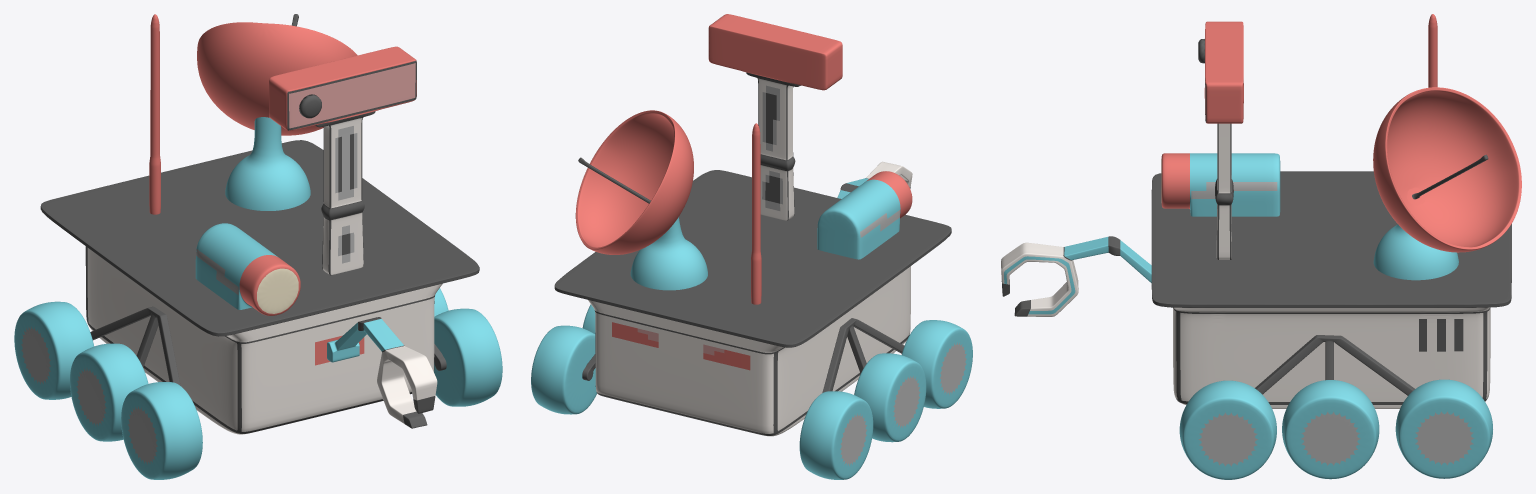
Rendered from Rover_Medium_Final.fbx.
The picture shows the model from 3 angles, left to right: view 1: azimuth 30°, elevation 25°; view 2: azimuth 150°, elevation 25°; view 3: azimuth 270°, elevation 25°; orthographic projection. The views are drawn at different scales.
Parts seen in each view (by area): view 1: Body_fracturepart2, Body_fracturepart3, Satellite, head_top, Body_fracturepart1, Light, FR_Wheel, BR_Wheel, FR_Wheel_001, Arm, MR_Wheel, head_bottom (+1 smaller); view 2: Body_fracturepart3, Body_fracturepart1, Satellite, head_top, Body_fracturepart2, Light, BR_Wheel, BR_Wheel_001, MR_Wheel, FR_Wheel, head_bottom, WheelForkRight (+1 smaller); view 3: Body_fracturepart1, Satellite, Body_fracturepart2, FR_Wheel_001, BR_Wheel_001, MR_Wheel_001, Body_fracturepart3, Light, head_top, Arm, WheelForkRight_001, head_bottom.
Part boxes in pixels (x1=…): Body_fracturepart2: x1=235, y1=228, x2=479, y2=434; Body_fracturepart3: x1=40, y1=14, x2=239, y2=433; Satellite: x1=197, y1=14, x2=357, y2=210; head_top: x1=269, y1=46, x2=416, y2=169; Body_fracturepart1: x1=131, y1=140, x2=430, y2=236; Light: x1=195, y1=223, x2=300, y2=315; FR_Wheel: x1=121, y1=382, x2=202, y2=479; BR_Wheel: x1=14, y1=301, x2=94, y2=399; FR_Wheel_001: x1=434, y1=308, x2=502, y2=406; Arm: x1=327, y1=317, x2=437, y2=428; MR_Wheel: x1=70, y1=343, x2=148, y2=441; head_bottom: x1=321, y1=162, x2=364, y2=275; Body_fracturepart3: x1=707, y1=123, x2=951, y2=436; Body_fracturepart1: x1=554, y1=215, x2=762, y2=426; Satellite: x1=575, y1=110, x2=707, y2=290; head_top: x1=708, y1=14, x2=842, y2=124; Body_fracturepart2: x1=680, y1=170, x2=934, y2=335; Light: x1=817, y1=171, x2=912, y2=259; BR_Wheel: x1=799, y1=391, x2=873, y2=479; BR_Wheel_001: x1=531, y1=325, x2=596, y2=414; MR_Wheel: x1=854, y1=353, x2=926, y2=442; FR_Wheel: x1=901, y1=320, x2=972, y2=408; head_bottom: x1=758, y1=119, x2=795, y2=220; WheelForkRight: x1=822, y1=318, x2=904, y2=392; Body_fracturepart1: x1=1262, y1=224, x2=1511, y2=408; Satellite: x1=1373, y1=87, x2=1521, y2=280; Body_fracturepart2: x1=1151, y1=184, x2=1337, y2=404; FR_Wheel_001: x1=1179, y1=380, x2=1276, y2=479; BR_Wheel_001: x1=1395, y1=379, x2=1492, y2=478; MR_Wheel_001: x1=1282, y1=380, x2=1379, y2=479; Body_fracturepart3: x1=1152, y1=14, x2=1437, y2=231; Light: x1=1161, y1=153, x2=1280, y2=216; head_top: x1=1198, y1=21, x2=1243, y2=161; Arm: x1=1001, y1=236, x2=1151, y2=316; WheelForkRight_001: x1=1255, y1=335, x2=1414, y2=395; head_bottom: x1=1215, y1=155, x2=1233, y2=259.
Size of the model in its own units: 102 by 105 by 136.
